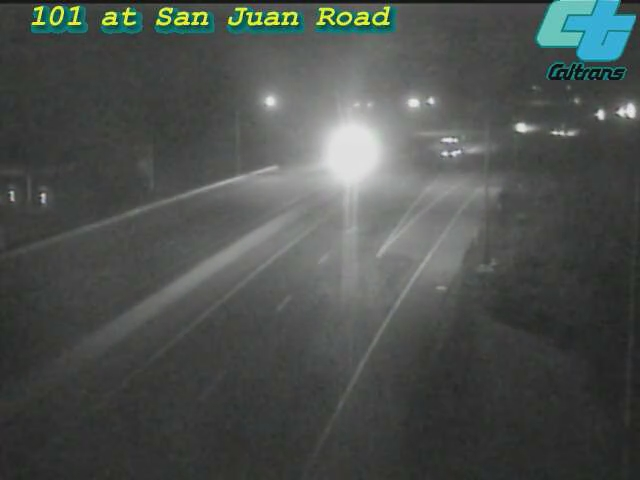vehicle: (326, 126, 376, 176), (492, 104, 542, 154), (530, 109, 580, 159), (423, 123, 473, 173), (581, 89, 631, 139), (607, 87, 640, 137)
